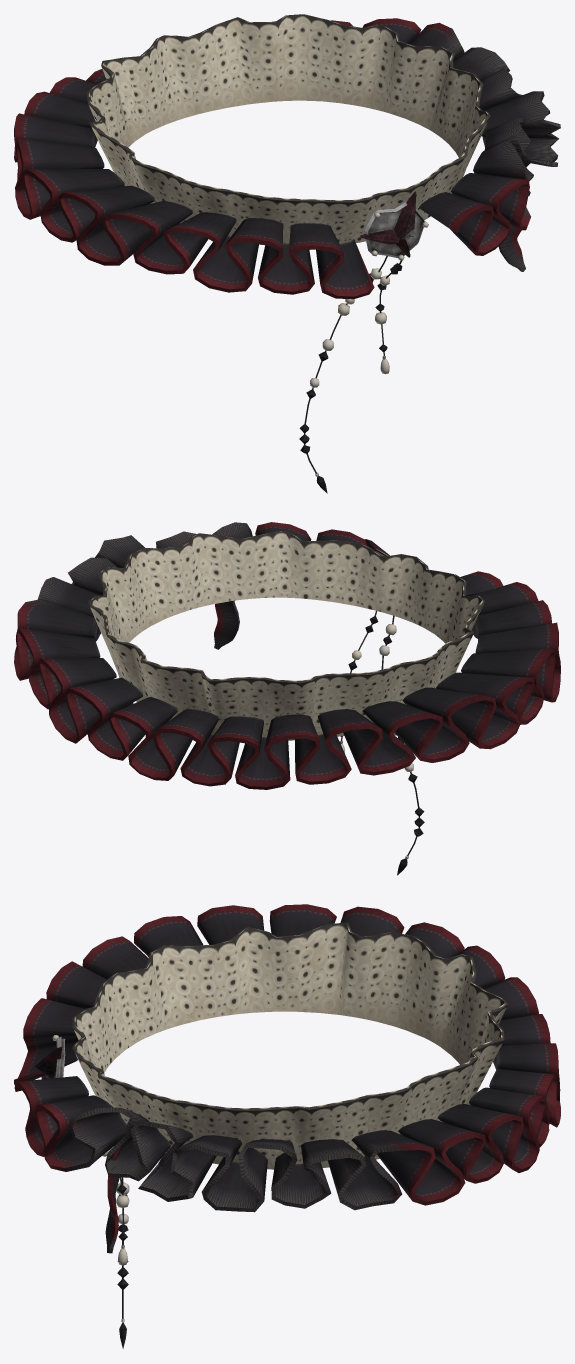
The model's file is AshenMourningRuff.fbx.
The picture shows the model from 3 angles, top to bottom: view 1: azimuth 30°, elevation 25°; view 2: azimuth 150°, elevation 25°; view 3: azimuth 270°, elevation 25°; orthographic projection. The views are drawn at different scales.
Visible parts, largest first — view 1: AshenMourningRuff; view 2: AshenMourningRuff; view 3: AshenMourningRuff.
Boxes of the visible parts, bbox=[...] form: AshenMourningRuff: bbox=[14, 14, 560, 493]; AshenMourningRuff: bbox=[14, 522, 560, 875]; AshenMourningRuff: bbox=[14, 904, 560, 1348].
Bounding box in the file's own units: 1.99 × 1.31 × 1.81.
Materials: 1 (1 with a texture image).
